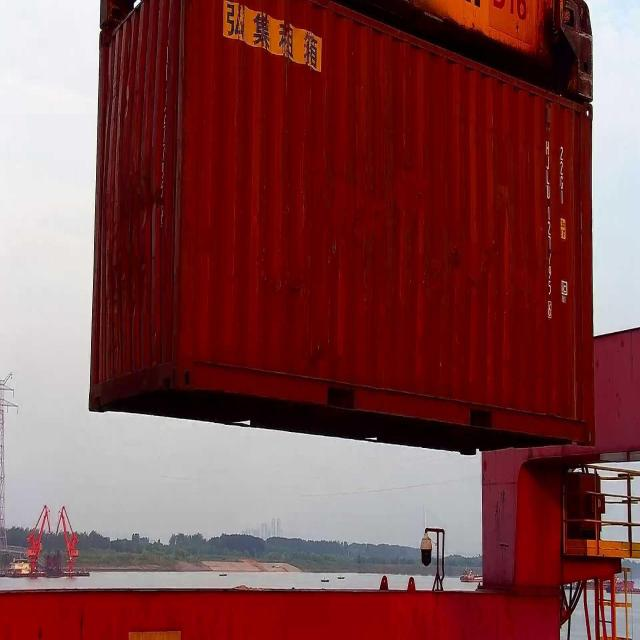dent: (235, 122, 553, 389)
